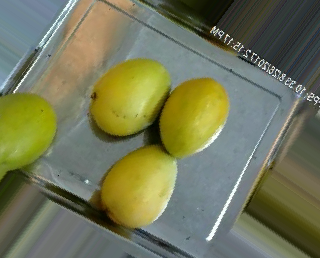Mango: (99, 144, 176, 223), (89, 63, 170, 136), (160, 78, 230, 157), (0, 93, 58, 172)
